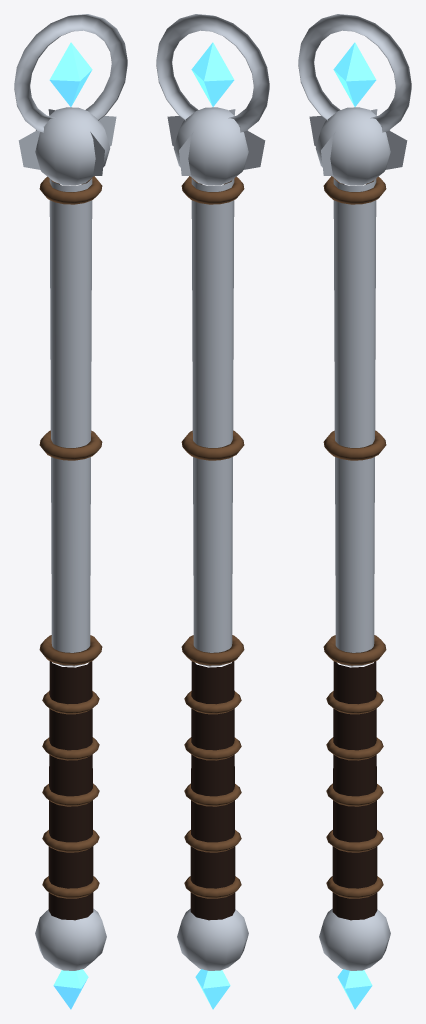
File: scepter_1.glb
The picture shows the model from 3 angles, left to right: view 1: azimuth 30°, elevation 25°; view 2: azimuth 150°, elevation 25°; view 3: azimuth 330°, elevation 25°; orthographic projection.
Parts seen in each view (by area): view 1: scepter_1; view 2: scepter_1; view 3: scepter_1.
Part boxes in pixels (box(x1,y1,x2,y2)): scepter_1: box(14, 14, 127, 1009); scepter_1: box(156, 14, 269, 1009); scepter_1: box(298, 14, 411, 1009).
Size of the model in its own units: 0.116 by 0.971 by 0.1.
